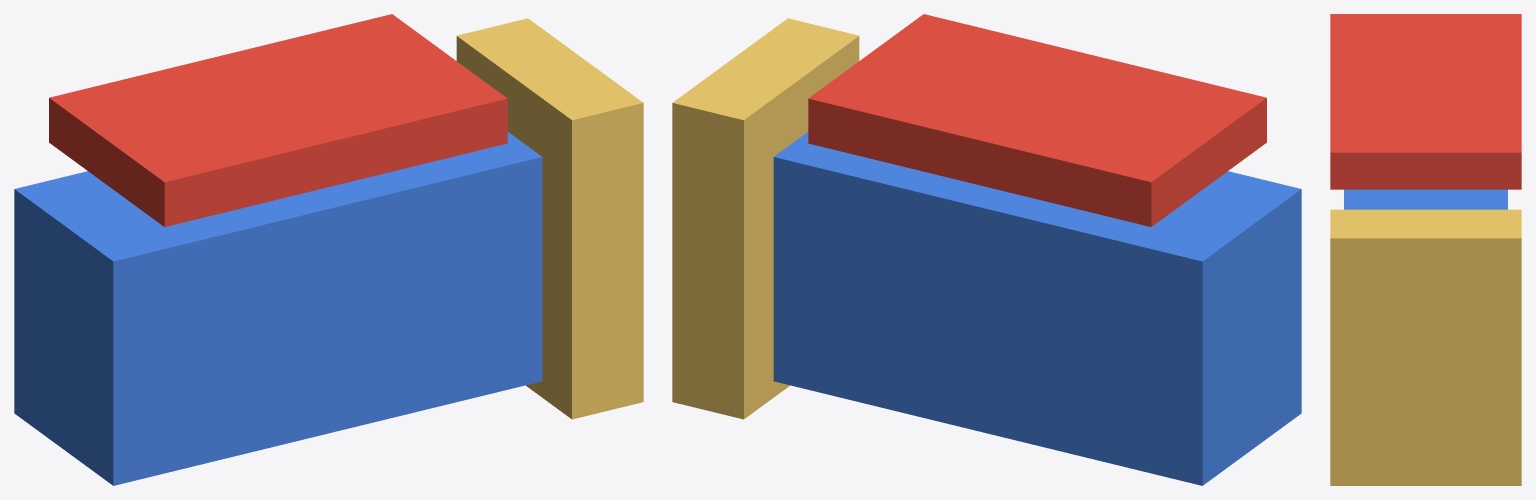
Rendered from Plan018RendererNativeSheenControl.glb.
3 views of the same model, side by side, from view 1: azimuth 30°, elevation 25°; view 2: azimuth 150°, elevation 25°; view 3: azimuth 270°, elevation 25° (orthographic). The views are drawn at different scales.
Visible parts, largest first — view 1: BlueBody, RedAccent, GoldPanel; view 2: BlueBody, RedAccent, GoldPanel; view 3: GoldPanel, RedAccent, BlueBody.
Boxes of the visible parts, x1=… form: BlueBody: x1=14, y1=132, x2=542, y2=485; RedAccent: x1=49, y1=14, x2=507, y2=226; GoldPanel: x1=456, y1=18, x2=643, y2=419; BlueBody: x1=773, y1=132, x2=1301, y2=485; RedAccent: x1=808, y1=14, x2=1266, y2=226; GoldPanel: x1=672, y1=18, x2=859, y2=419; GoldPanel: x1=1330, y1=209, x2=1521, y2=485; RedAccent: x1=1330, y1=14, x2=1521, y2=189; BlueBody: x1=1344, y1=189, x2=1507, y2=209.
Bounding box in the file's own units: 1.82 × 1.12 × 0.7.
